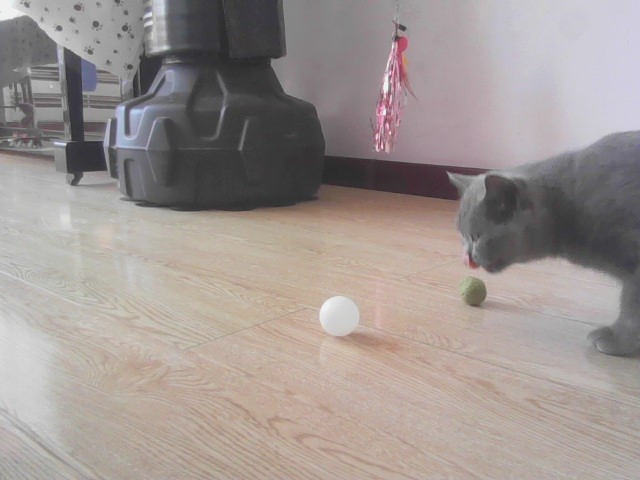ball: (319, 295, 361, 340)
